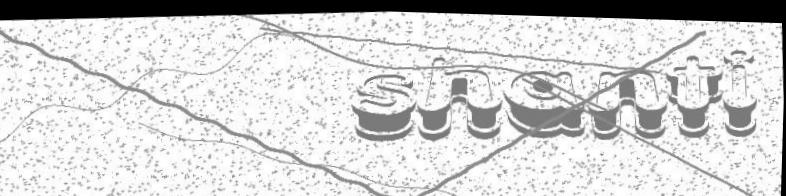a: (497, 59, 589, 138)
h: (408, 45, 509, 144)
i: (708, 42, 763, 135)
n: (582, 59, 670, 140)
s: (342, 67, 422, 142)
t: (659, 42, 727, 136)
